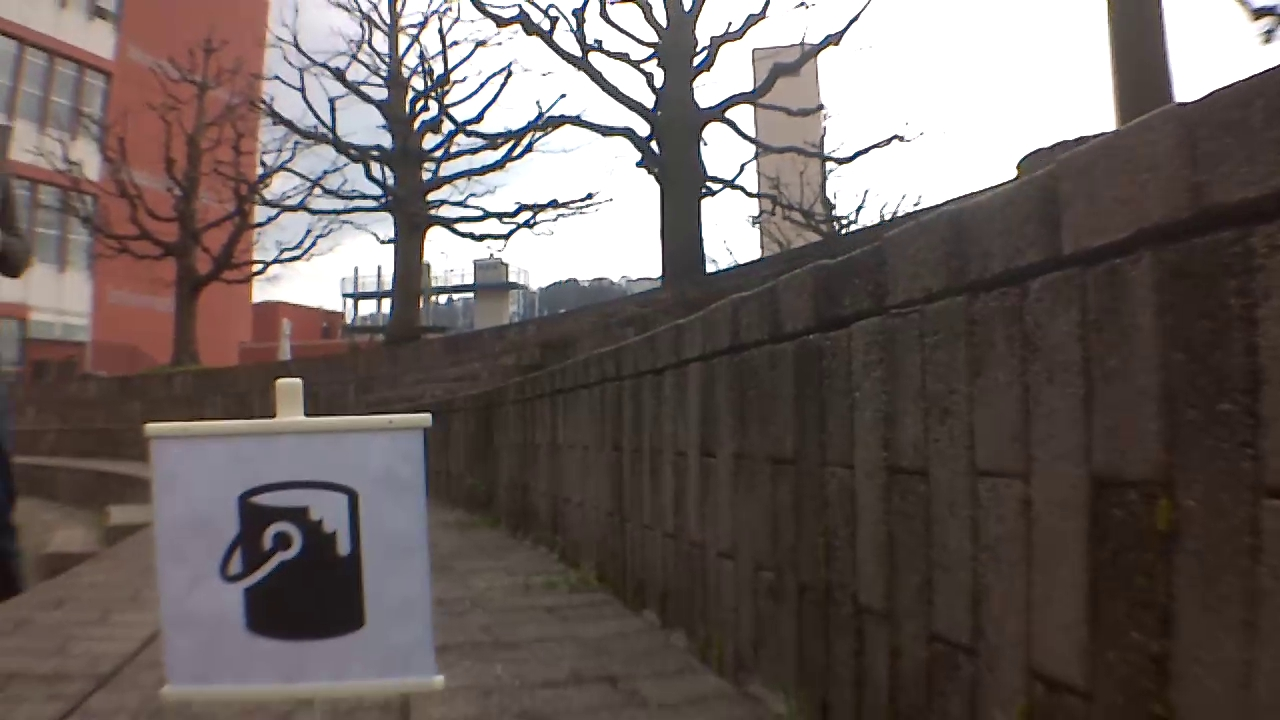bucket: (217, 476, 365, 642)
